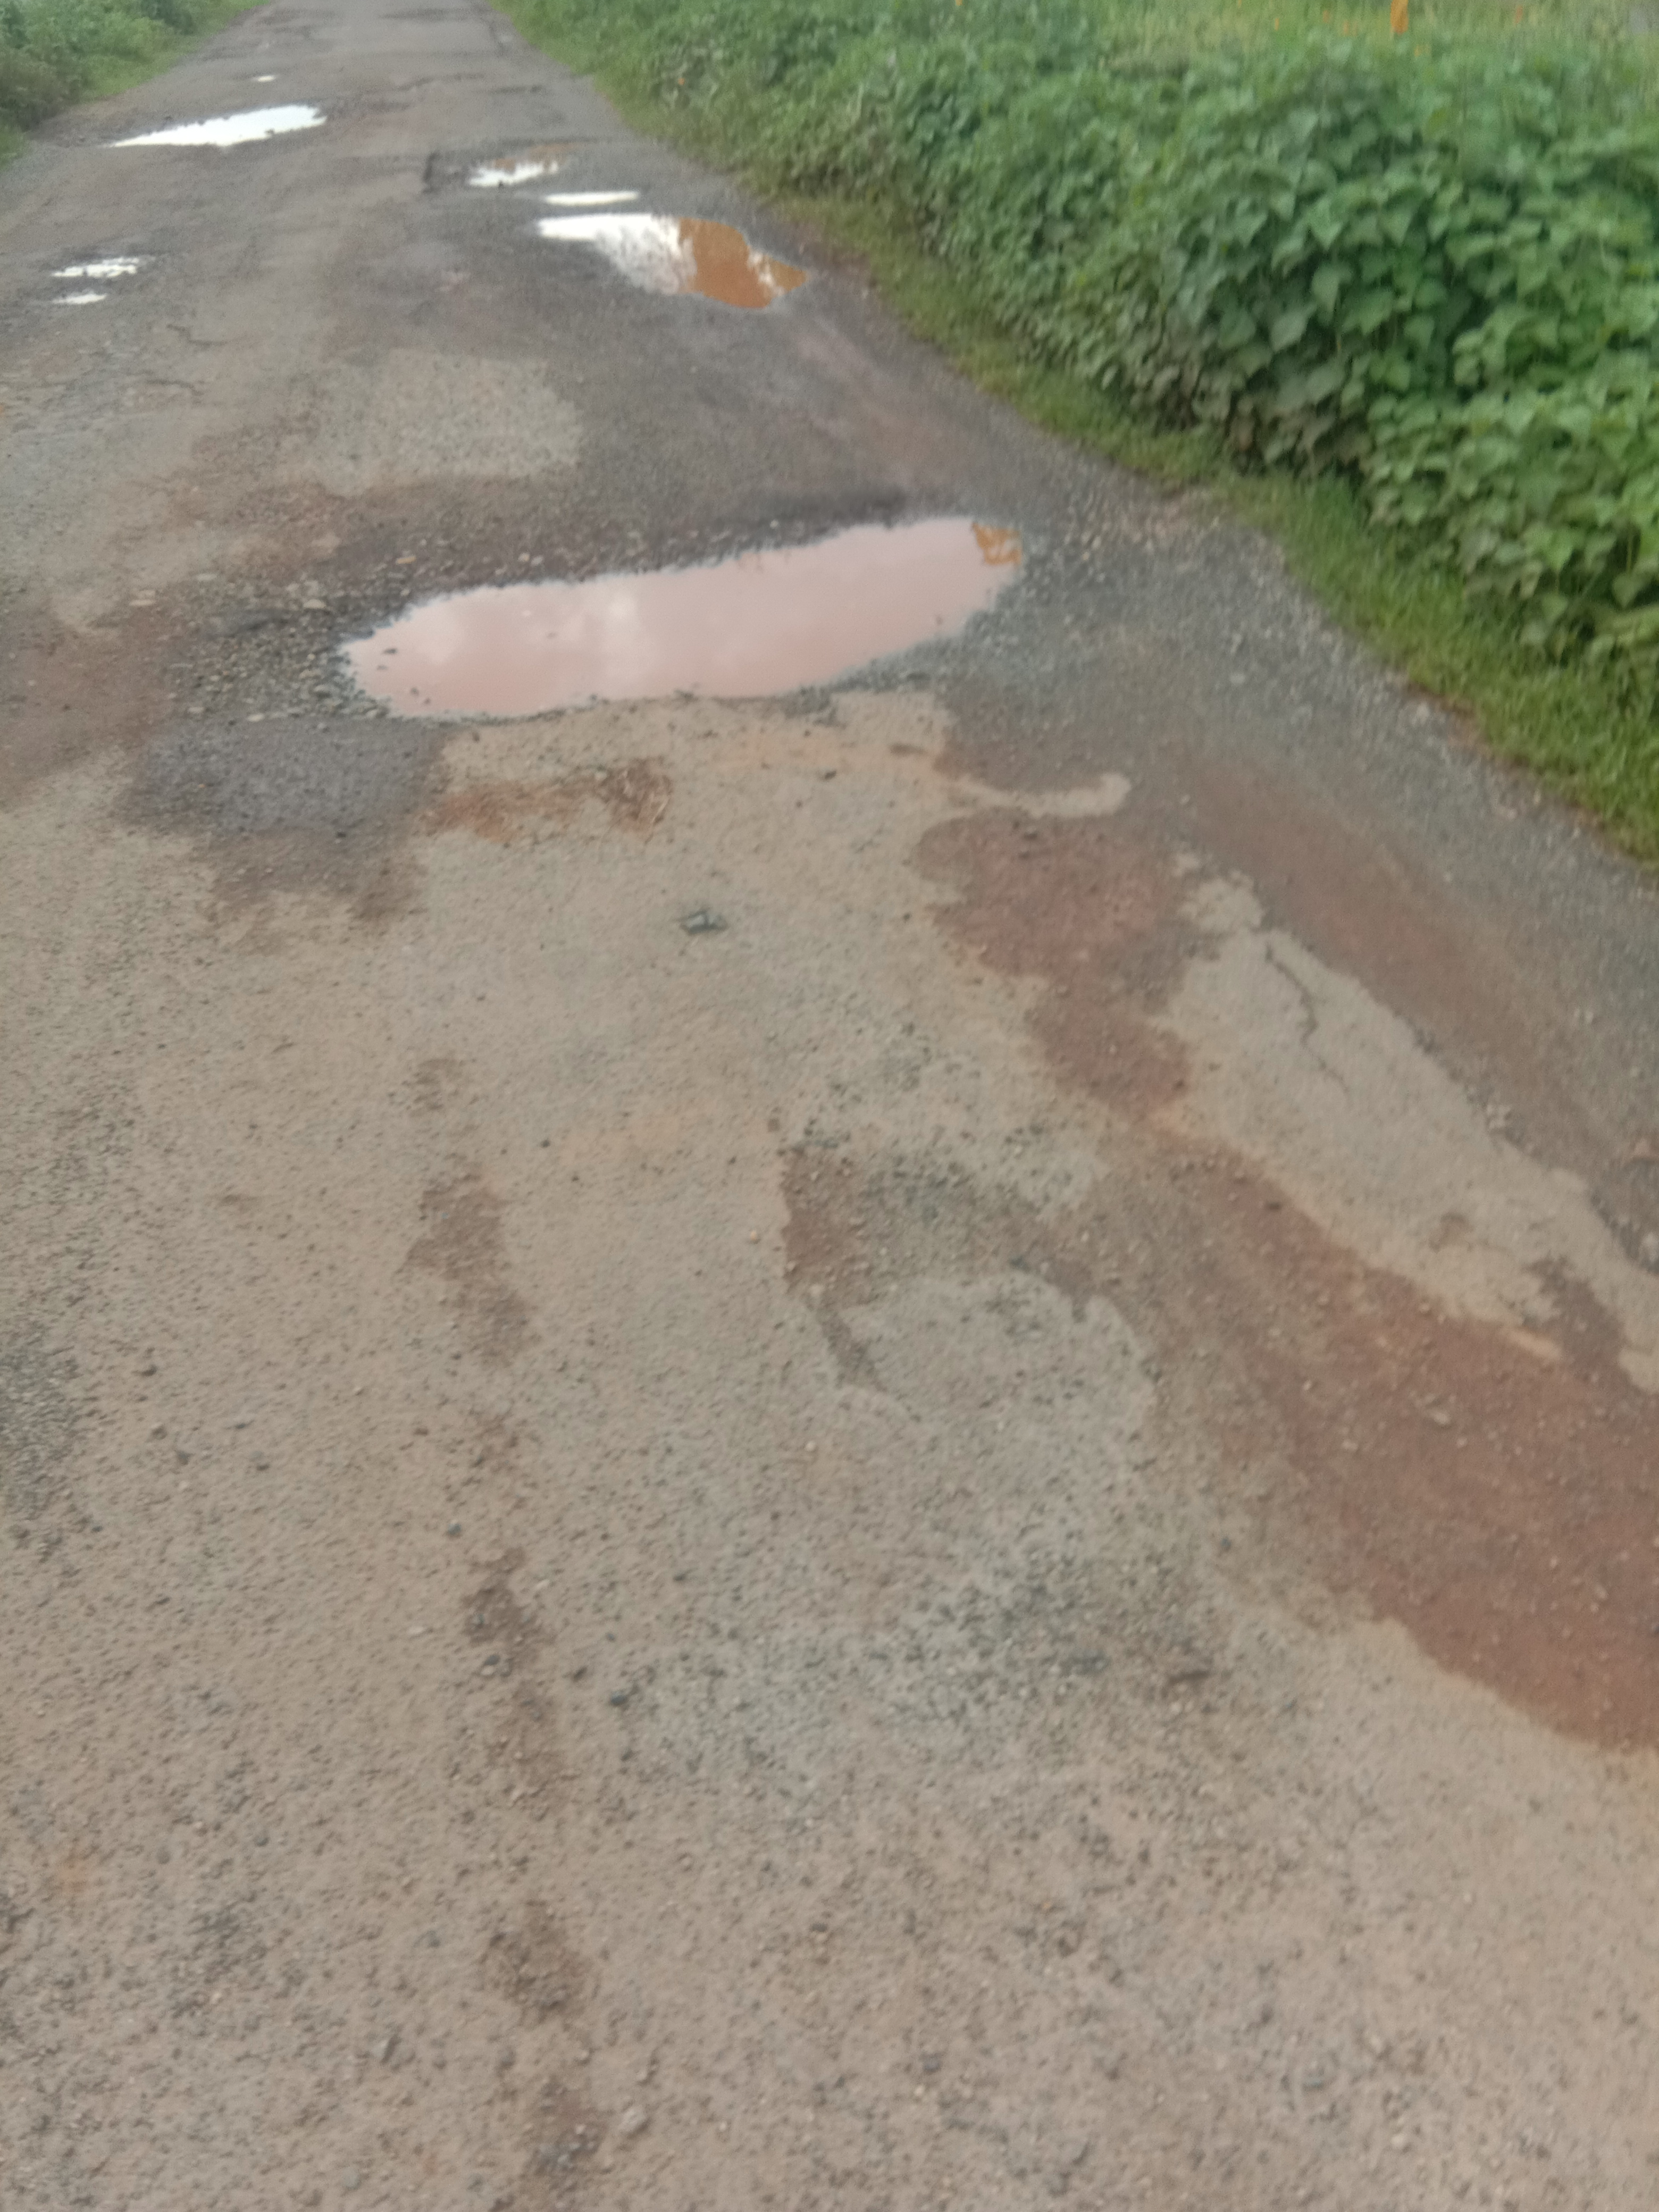potholes: (324, 498, 1061, 707), (427, 143, 838, 317), (91, 91, 338, 176), (44, 244, 159, 324)
